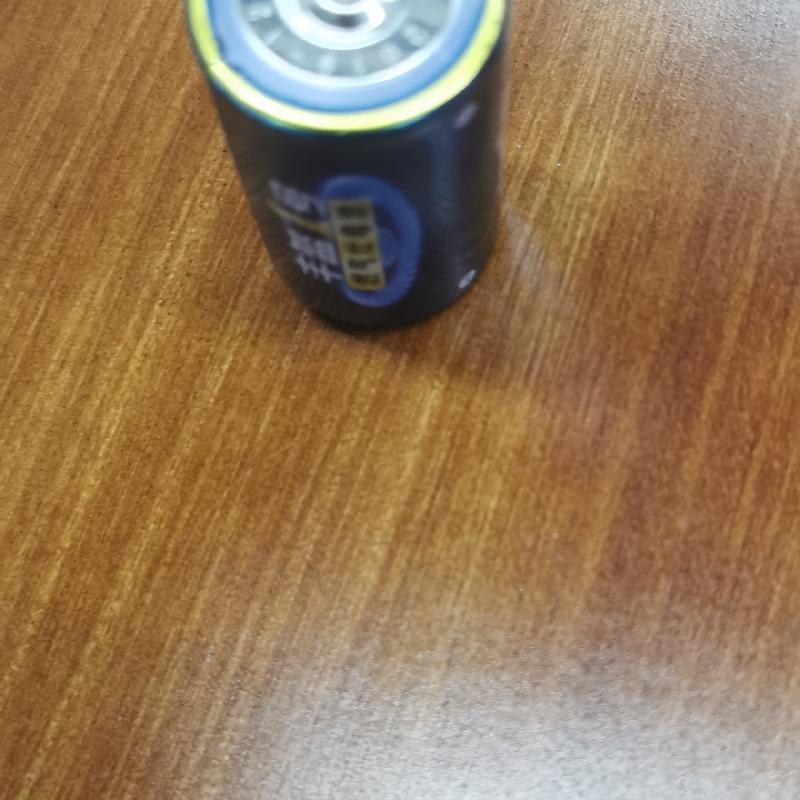battery: (175, 1, 512, 348)
